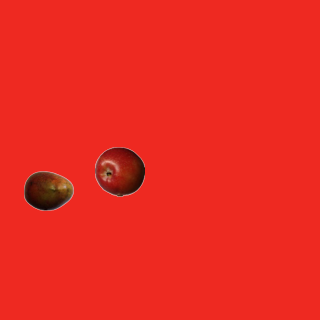Apple Braeburn: (94, 146, 144, 196)
Mango Red: (23, 165, 73, 215)
